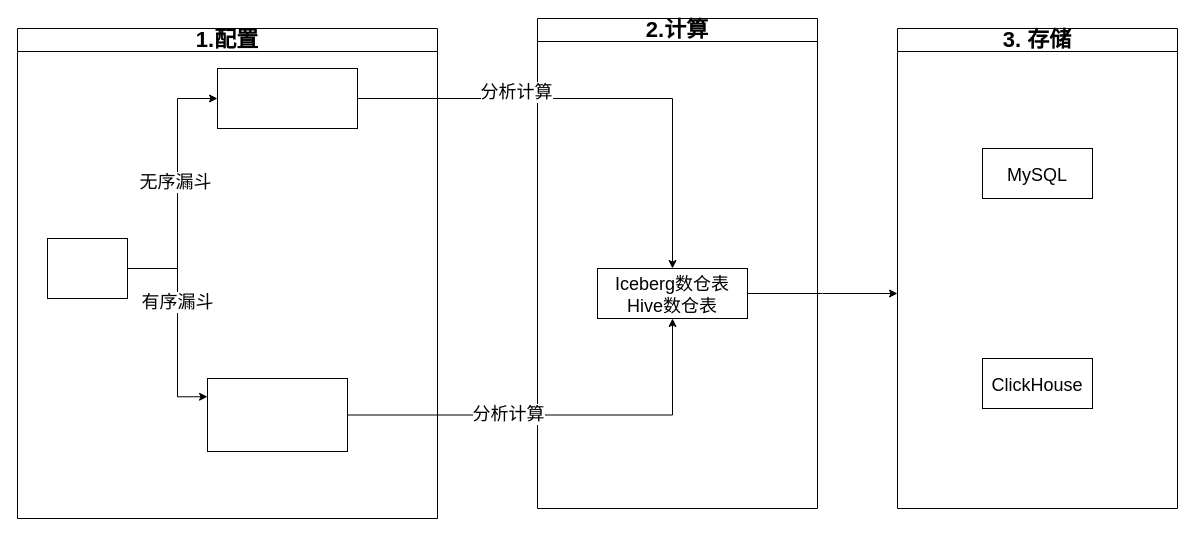
This 1195x536 diagram has some shape labels left out. Each missing label, with the centre of its shape:
"Hive 任务组装器" goes at point (287, 98).
"Spark任务组装器" goes at point (277, 415).
"报表配置" goes at point (87, 268).
